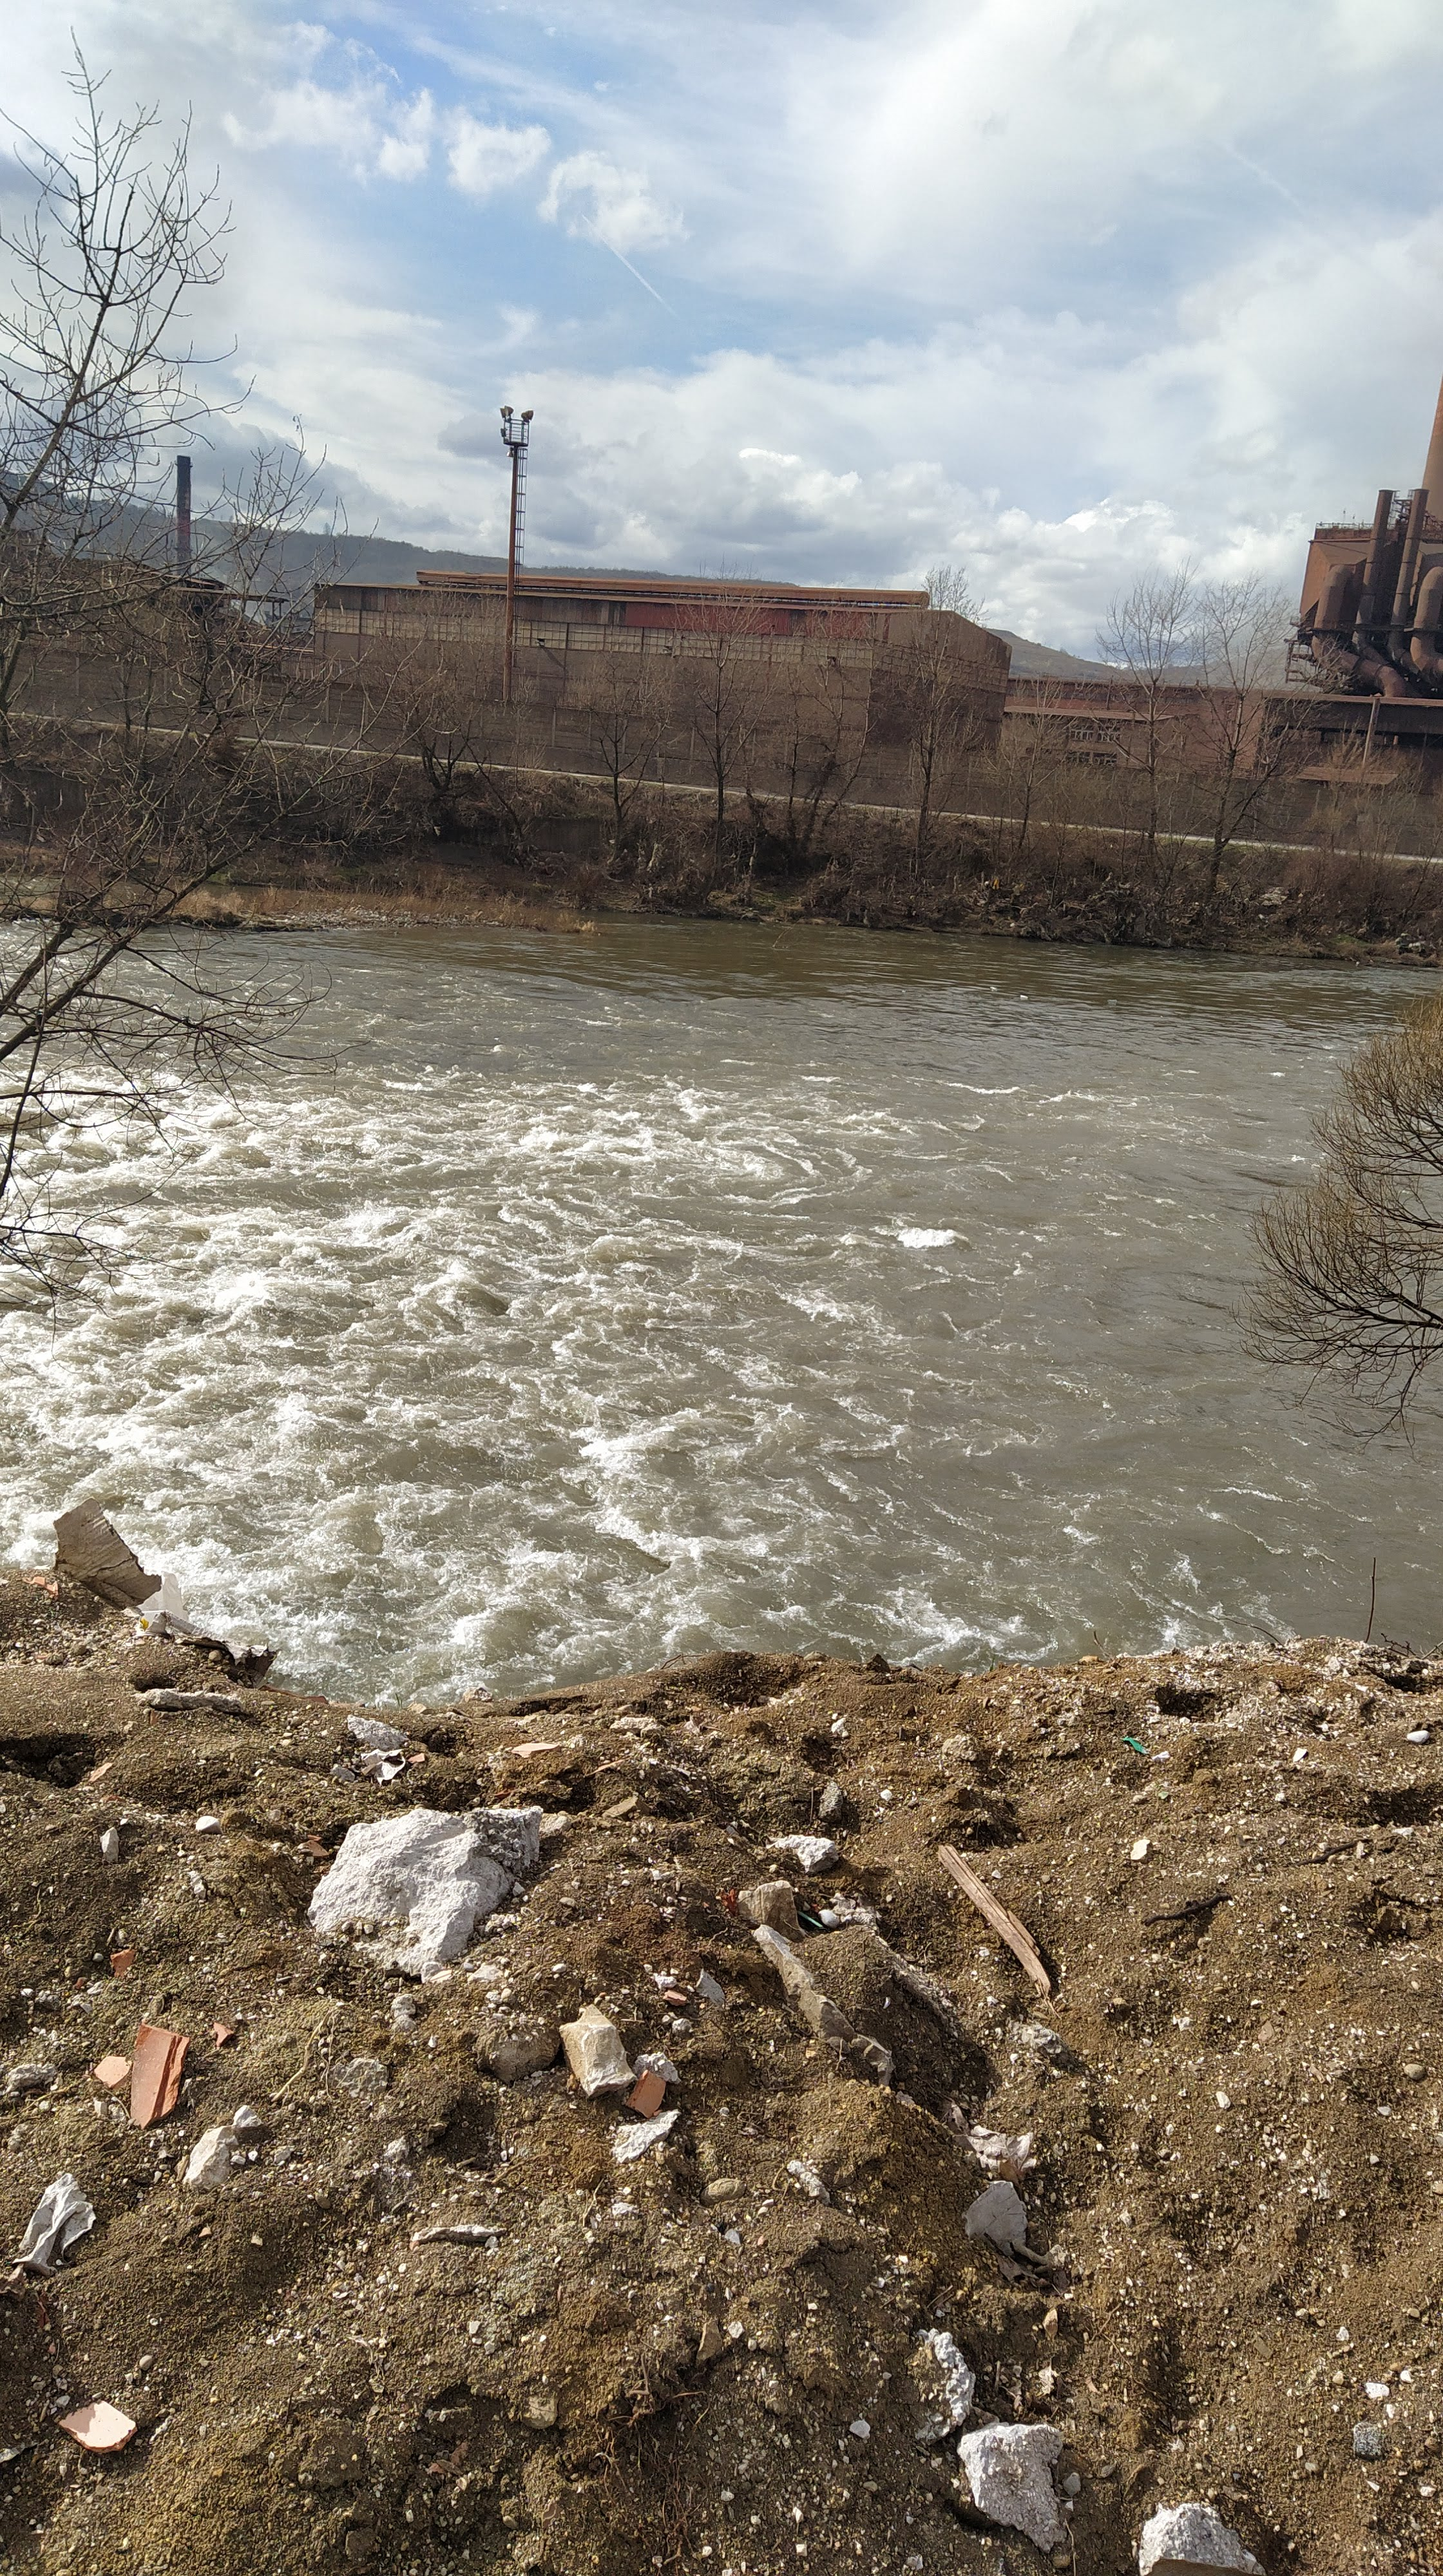Plastic Bottle: (1108, 998, 1115, 1003), (1020, 994, 1027, 998), (990, 985, 995, 989)
